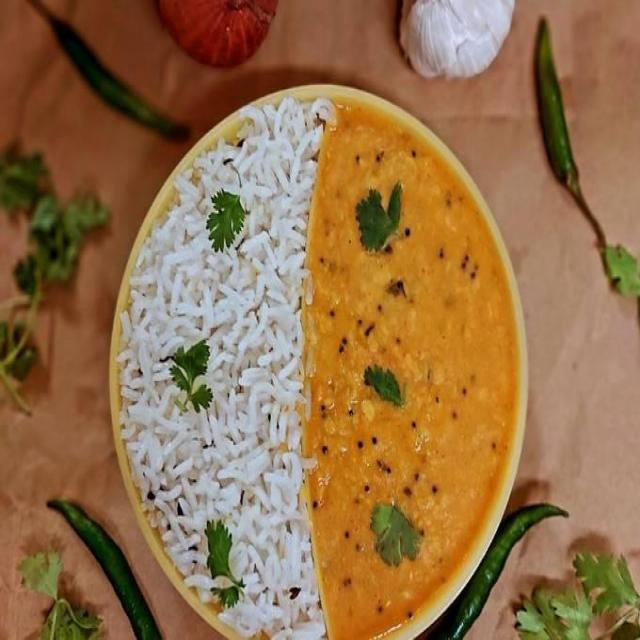dal: (308, 97, 534, 640)
rice: (124, 56, 312, 640)
